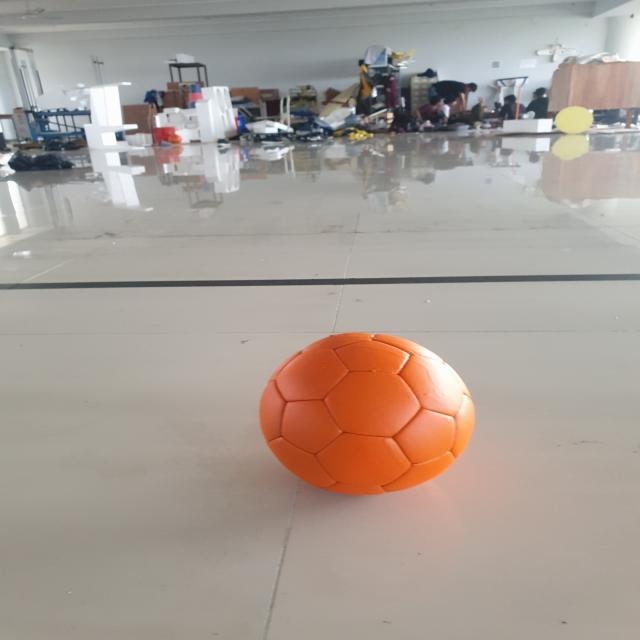bola: (252, 320, 480, 498)
